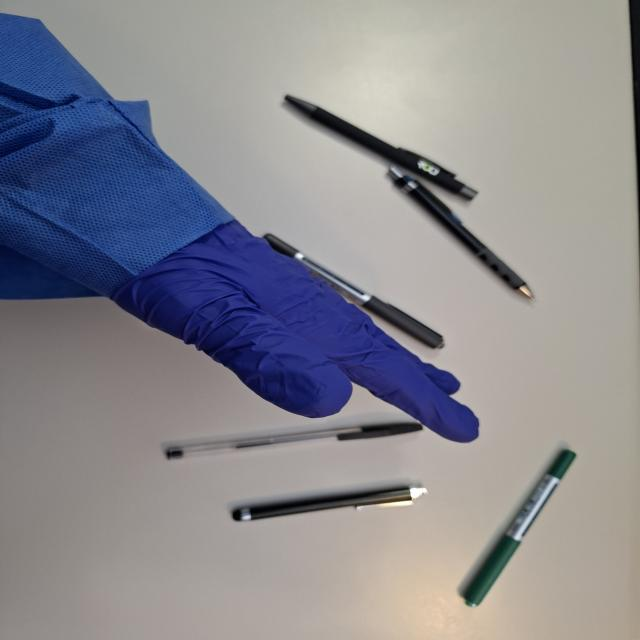glove_on: (102, 212, 484, 448)
